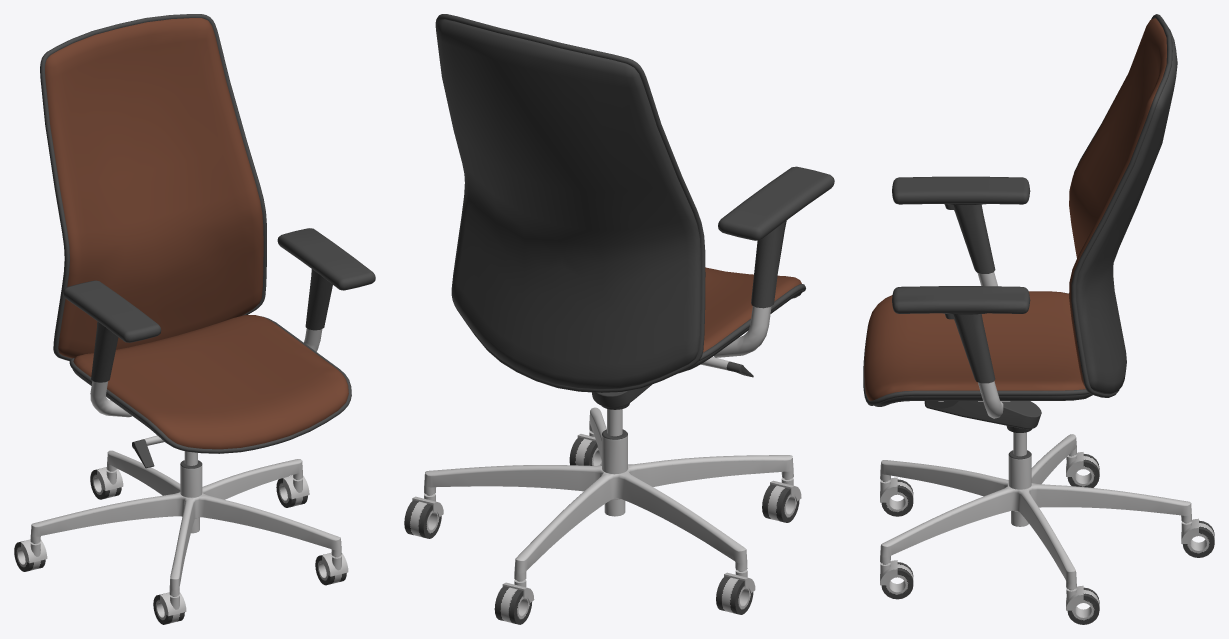
The model's file is officechair.gltf.
The picture shows the model from 3 angles, left to right: view 1: azimuth 30°, elevation 25°; view 2: azimuth 150°, elevation 25°; view 3: azimuth 270°, elevation 25°; orthographic projection. The views are drawn at different scales.
Parts seen in each view (by area): view 1: SM_Modern_Office_chair; view 2: SM_Modern_Office_chair; view 3: SM_Modern_Office_chair.
Boxes of the visible parts, x1=… form: SM_Modern_Office_chair: x1=14, y1=14, x2=375, y2=624; SM_Modern_Office_chair: x1=404, y1=14, x2=834, y2=624; SM_Modern_Office_chair: x1=863, y1=14, x2=1214, y2=624.
Bounding box in the file's own units: 0.6205 × 1.02 × 0.6443.
Materials: 1 (1 with a texture image).
